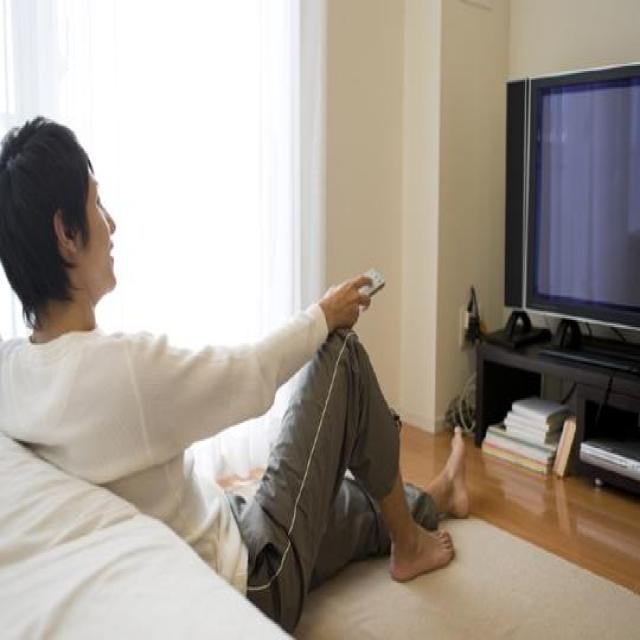tv-person: (0, 51, 640, 624)
